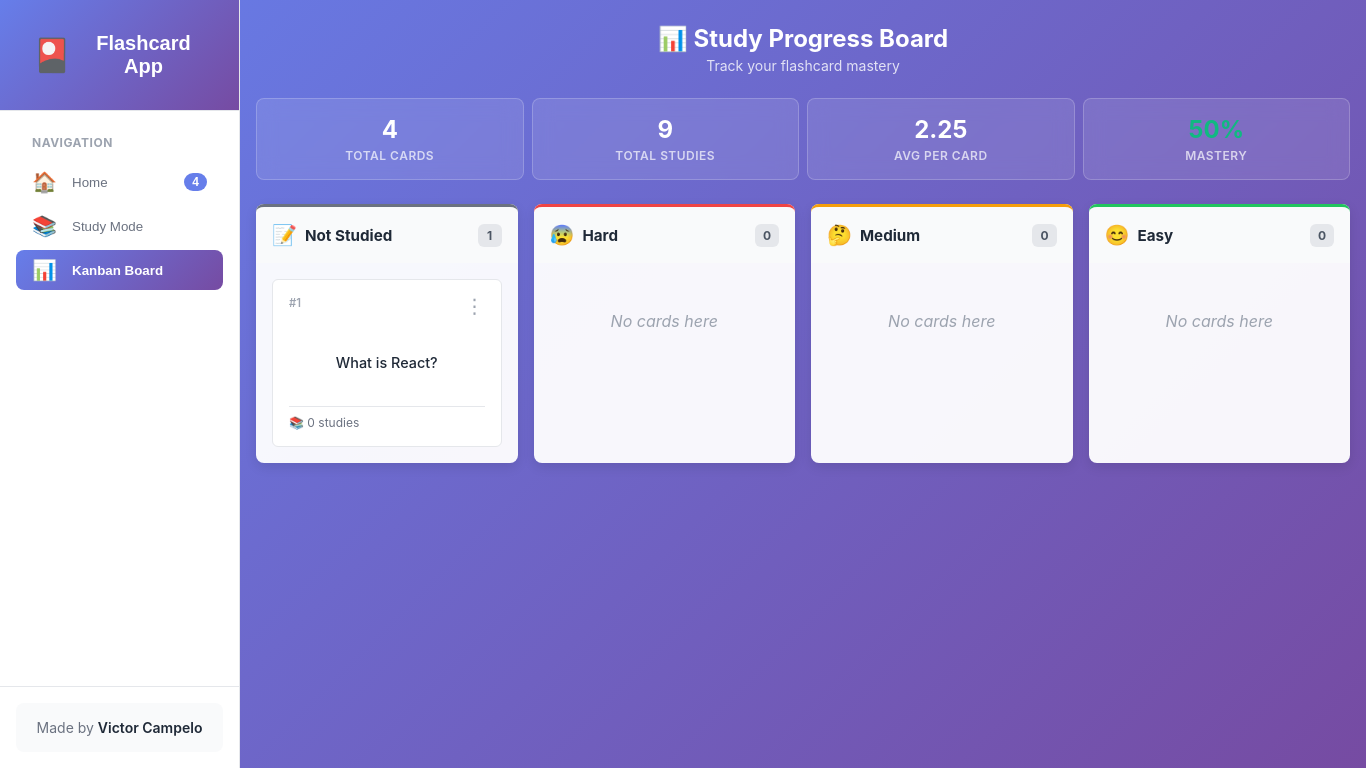
Kanban › Card Menu Interaction › closes menu when menu button is clicked again
This screenshot has width=1366, height=768.
Expected: the text "What is React?" is shown, [336, 352, 438, 374]
# Open menu
Step 1. Click the button with test id "card-menu-btn" → (474, 306), box [456, 292, 492, 320]
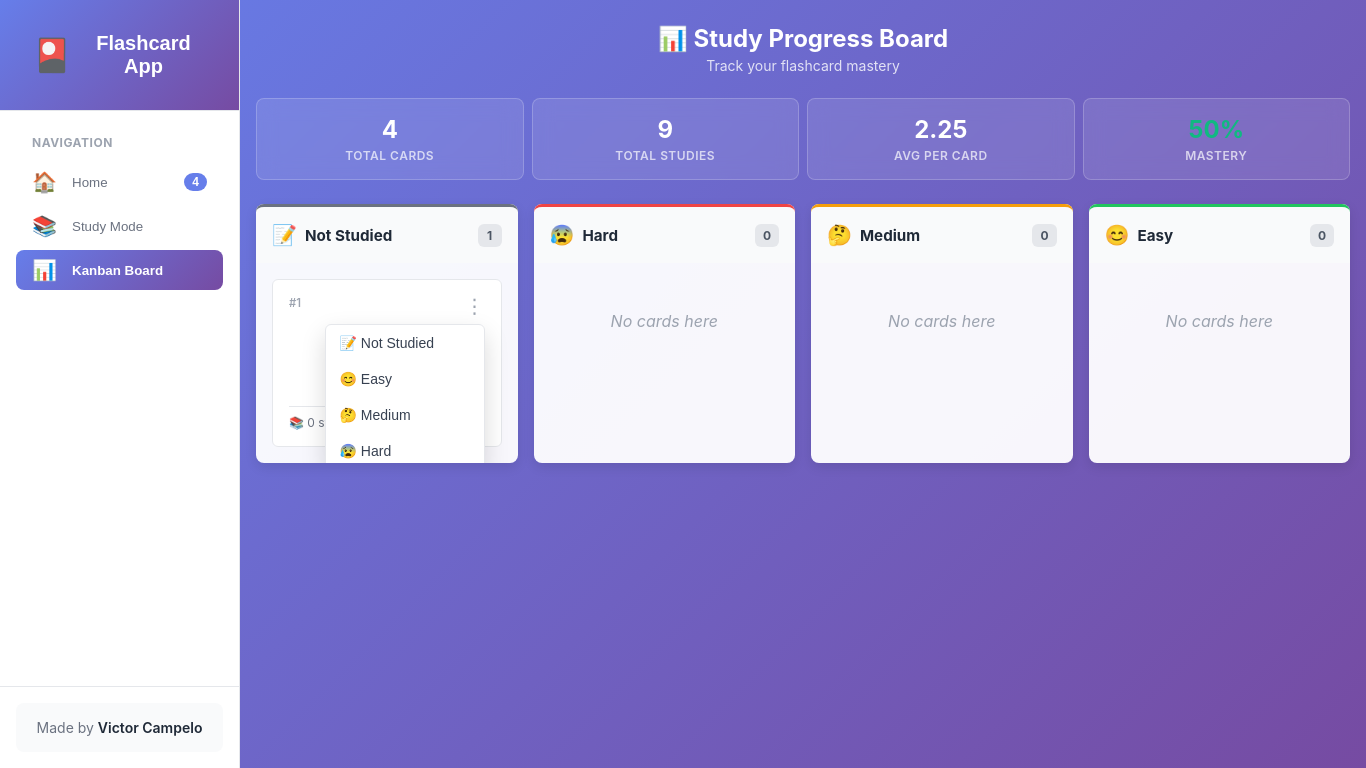
Now the element with test id "card-menu" is shown, box [324, 324, 484, 463]
# Close menu
Step 2. Click the button with test id "card-menu-btn" → (474, 306), box [456, 292, 492, 320]
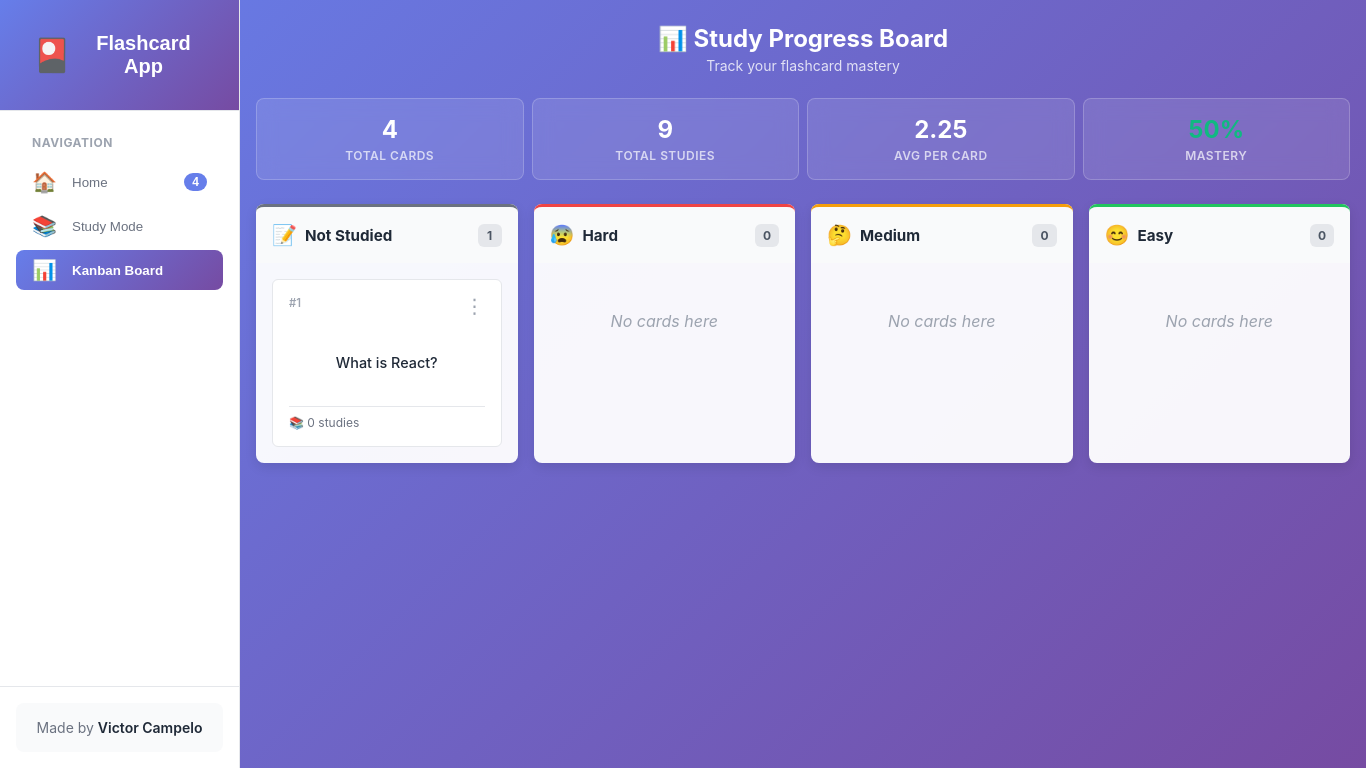
Now the element with test id "card-menu" is gone
